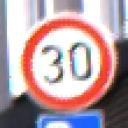speed_limit_30: (20, 12, 118, 110)
